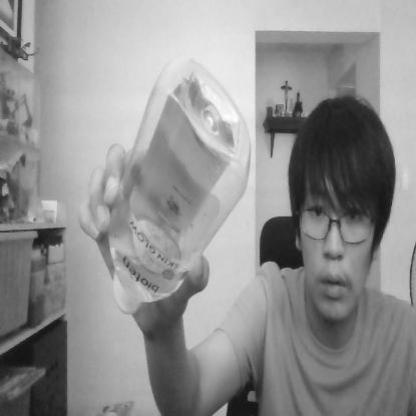Plastic Bottle: (106, 46, 251, 322)
